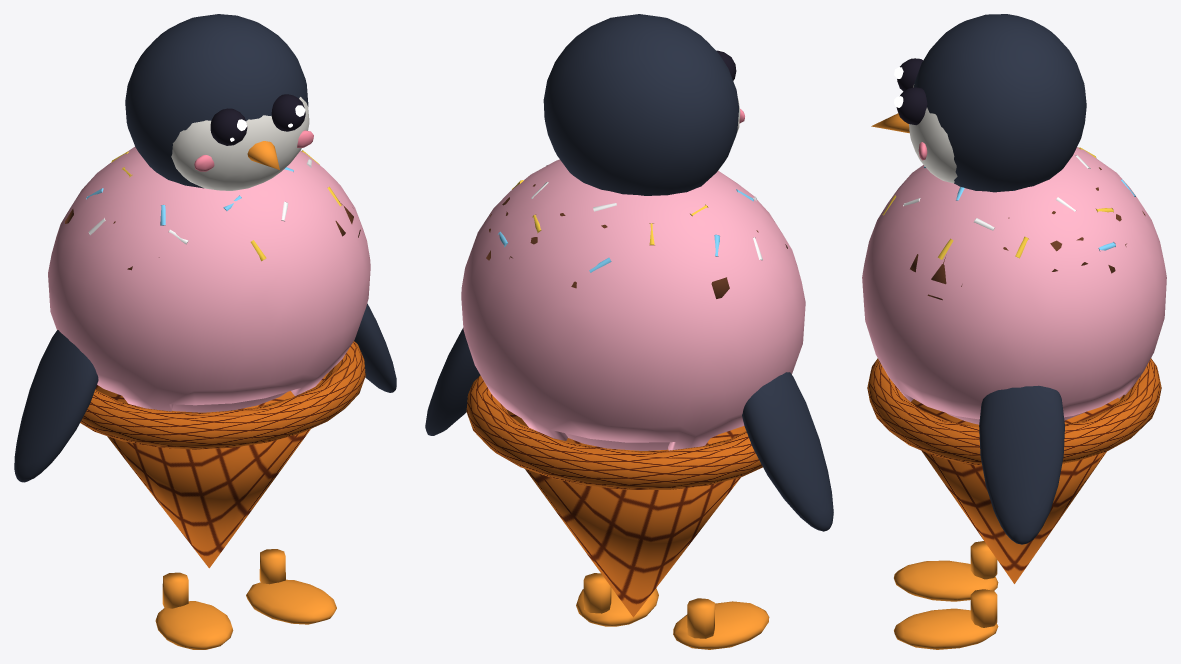
The model's file is pilot_pingvin_is_lav.glb.
3 views of the same model, side by side, from view 1: azimuth 30°, elevation 25°; view 2: azimuth 150°, elevation 25°; view 3: azimuth 270°, elevation 25° (orthographic). The views are drawn at different scales.
Visible parts, largest first — view 1: kropp, hode, vinge_v, bein_hf, bein_vf, vinge_h; view 2: kropp, hode, vinge_v, bein_vf, vinge_h, bein_hf; view 3: kropp, hode, vinge_h, bein_hf, bein_vf.
Boxes of the visible parts, box(x1,y1,x2,y2) form: kropp: box(48, 146, 370, 568); hode: box(125, 14, 313, 190); vinge_v: box(14, 330, 98, 482); bein_hf: box(246, 549, 336, 624); bein_vf: box(155, 572, 233, 649); vinge_h: box(354, 303, 396, 392); kropp: box(461, 159, 805, 617); hode: box(543, 14, 744, 195); vinge_v: box(742, 372, 833, 531); bein_vf: box(673, 598, 769, 649); vinge_h: box(425, 328, 480, 435); bein_hf: box(576, 573, 658, 626); kropp: box(862, 147, 1166, 583); hode: box(871, 14, 1086, 192); vinge_h: box(979, 385, 1064, 544); bein_hf: box(894, 589, 998, 649); bein_vf: box(894, 541, 998, 601).
Bounding box in the file's own units: 1.16 × 1.72 × 0.8015.
12 materials, 1 textured.
